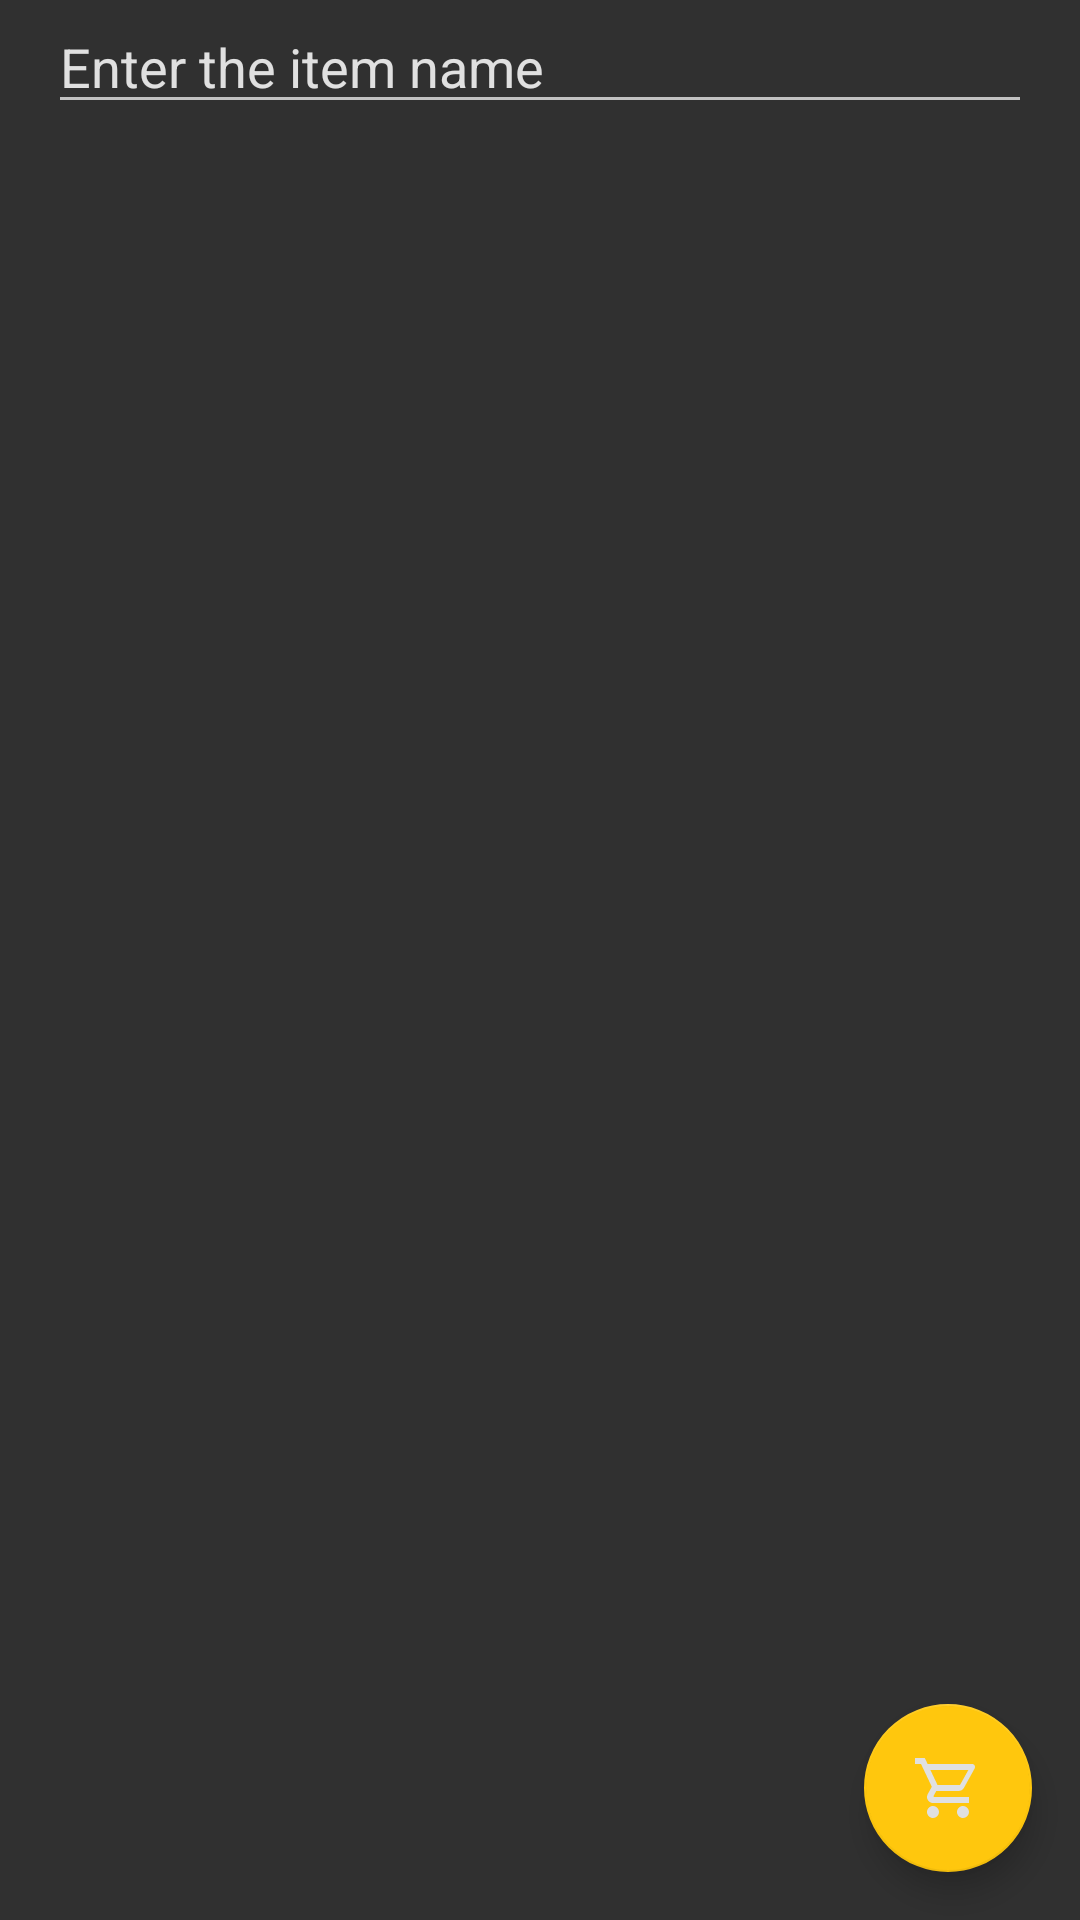

Named icons in this screenshot (1080px x 1920px) and their centers, [x,y]:
cart: [948,1788]
